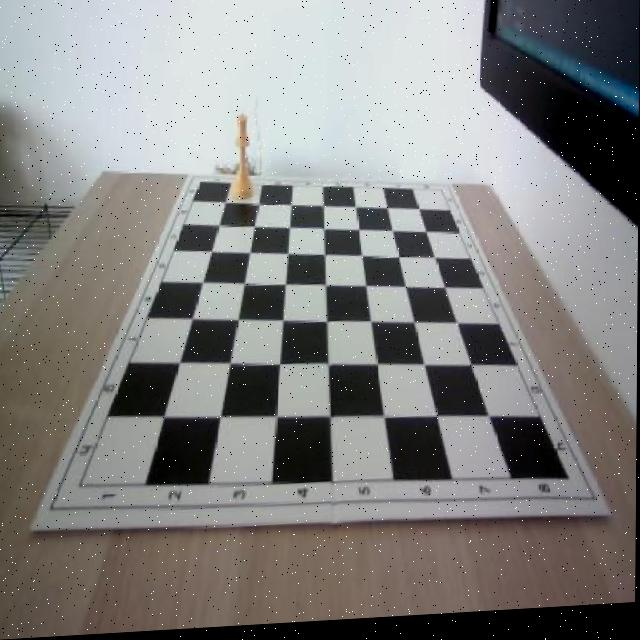white-pawn: (231, 114, 254, 202)
